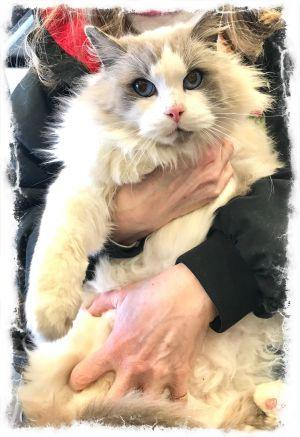ragdoll: (79, 2, 260, 165)
